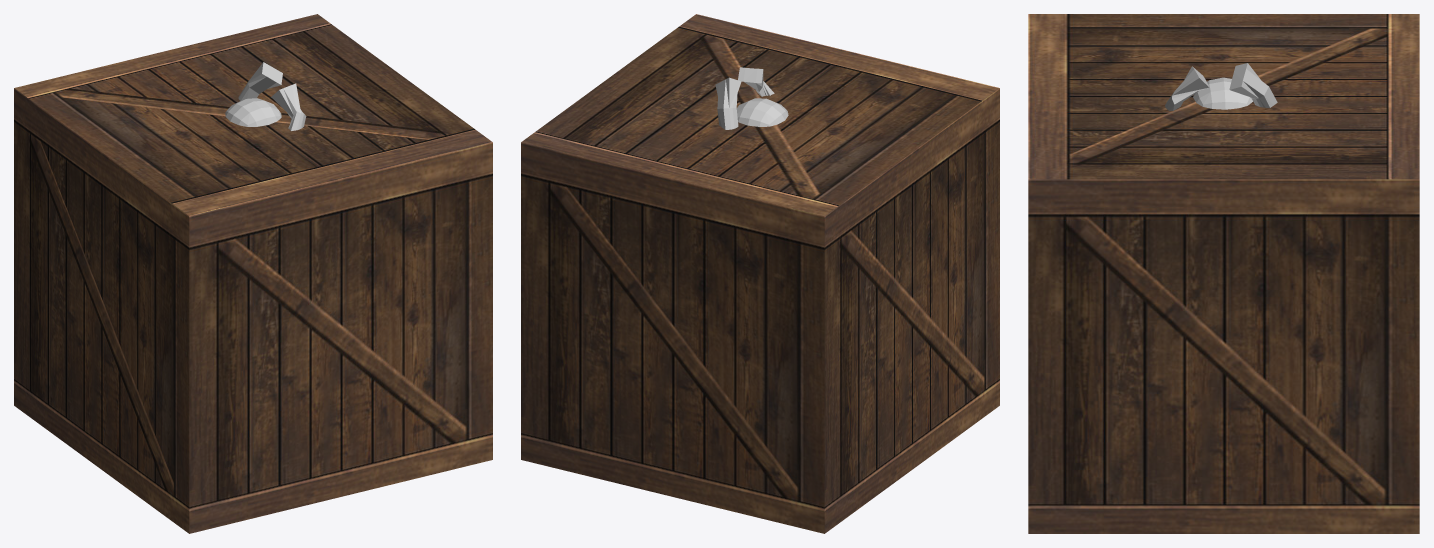
Rendered from attak.obj.
The picture shows the model from 3 angles, left to right: view 1: azimuth 30°, elevation 25°; view 2: azimuth 150°, elevation 25°; view 3: azimuth 270°, elevation 25°; orthographic projection. The views are drawn at different scales.
Visible parts, largest first — view 1: Cube.001, Cube; view 2: Cube.001, Cube; view 3: Cube.001, Cube.
Boxes of the visible parts, x1,y1,x2,y2 form: Cube.001: (14,14,492,533); Cube: (225,62,306,130); Cube.001: (521,14,999,533); Cube: (715,67,788,129); Cube.001: (1028,14,1419,533); Cube: (1165,63,1277,110).
Size of the model in its own units: 2 by 2.29 by 2.
